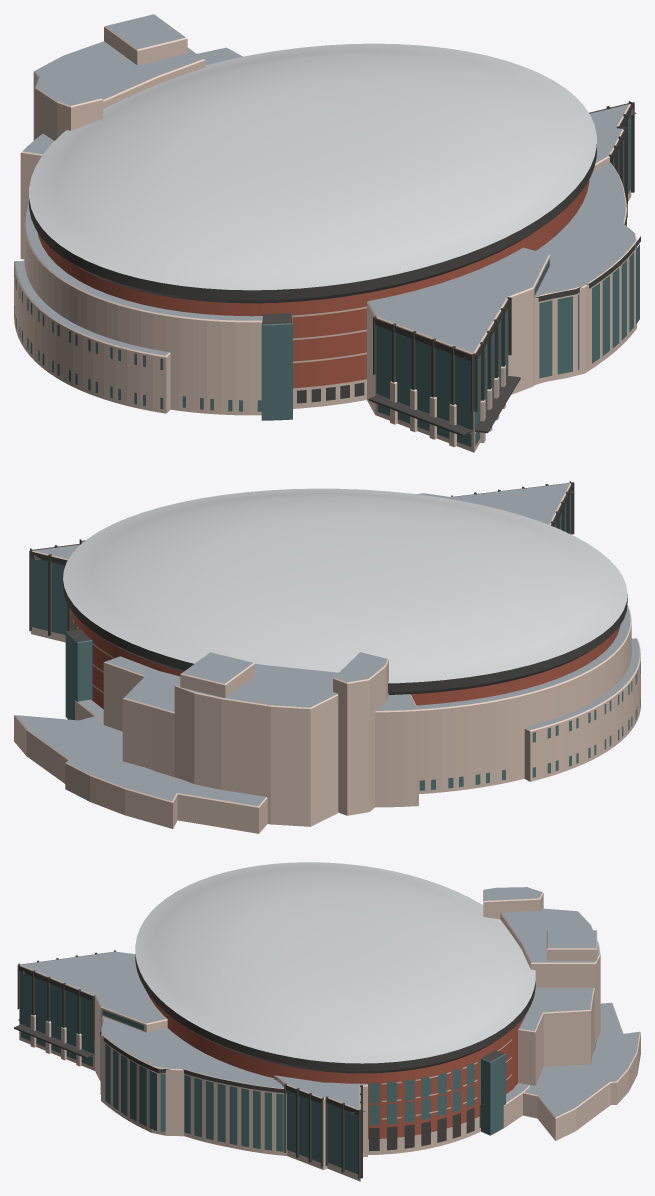
The model's file is den-ball-arena.glb.
The picture shows the model from 3 angles, top to bottom: view 1: azimuth 30°, elevation 25°; view 2: azimuth 150°, elevation 25°; view 3: azimuth 270°, elevation 25°; orthographic projection. The views are drawn at different scales.
Parts seen in each view (by area): view 1: Ball Arena; view 2: Ball Arena; view 3: Ball Arena.
Boxes of the visible parts, bbox=[...] form: Ball Arena: bbox=[14, 14, 640, 452]; Ball Arena: bbox=[14, 481, 640, 833]; Ball Arena: bbox=[14, 862, 640, 1181].
Bounding box in the file's own units: 172 × 41.4 × 197.
